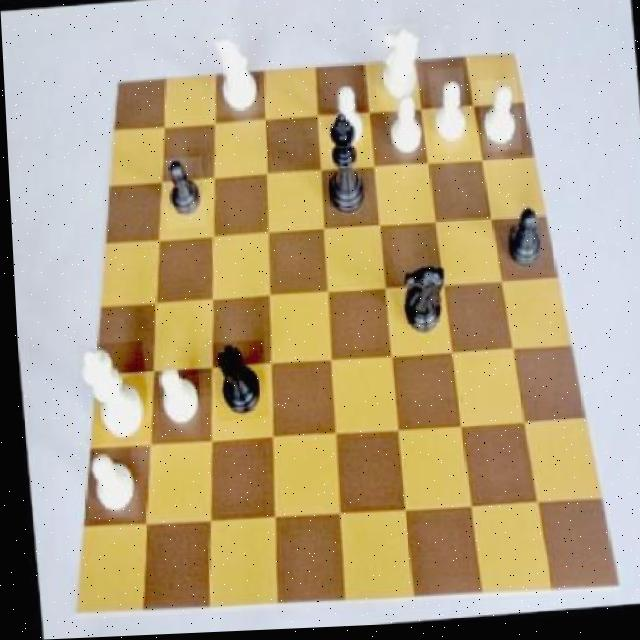black-bishop: (318, 113, 368, 229)
black-king: (391, 259, 449, 353)
black-knight: (497, 204, 546, 286), (159, 159, 205, 232)
black-queen: (207, 342, 265, 424)
white-bishop: (74, 342, 146, 445)
white-king: (207, 26, 267, 118), (370, 27, 424, 113)
white-knight: (324, 78, 375, 163), (78, 444, 134, 519), (152, 357, 199, 438), (427, 72, 468, 157), (476, 82, 520, 157), (387, 95, 427, 162)
